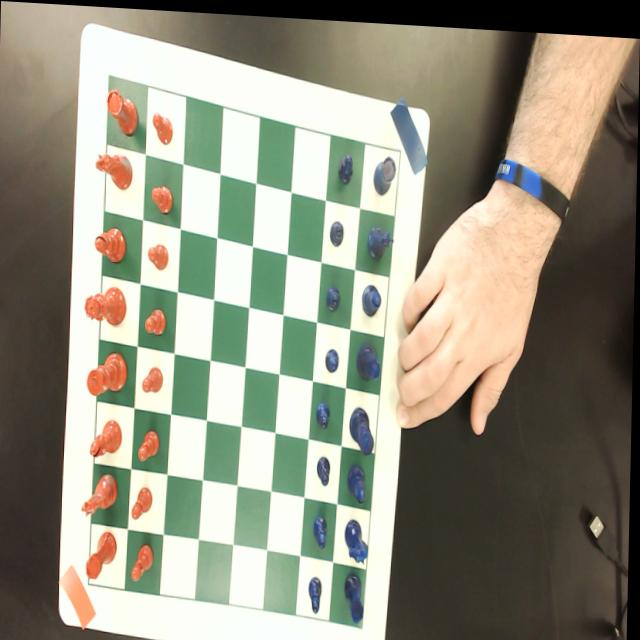B: (348, 459, 368, 498), (362, 279, 383, 312)
K: (349, 401, 375, 452)
N: (346, 515, 370, 561), (367, 219, 394, 256)
P: (309, 571, 325, 610), (337, 145, 353, 181), (314, 510, 329, 546), (329, 213, 345, 244), (325, 279, 341, 309), (324, 342, 341, 370), (316, 396, 332, 425), (317, 452, 332, 482)
Q: (356, 338, 381, 376)
R: (345, 566, 367, 619), (372, 150, 397, 191)
b: (90, 416, 123, 458), (94, 222, 127, 262)
k: (87, 348, 129, 396)
n: (81, 469, 120, 518), (95, 150, 133, 189)
p: (133, 540, 156, 580), (133, 483, 155, 518), (152, 108, 173, 143), (139, 427, 161, 460), (151, 181, 173, 212), (145, 304, 167, 334), (142, 362, 165, 390), (148, 241, 169, 268)
q: (84, 283, 127, 325)
r: (105, 85, 139, 136), (87, 528, 119, 579)
